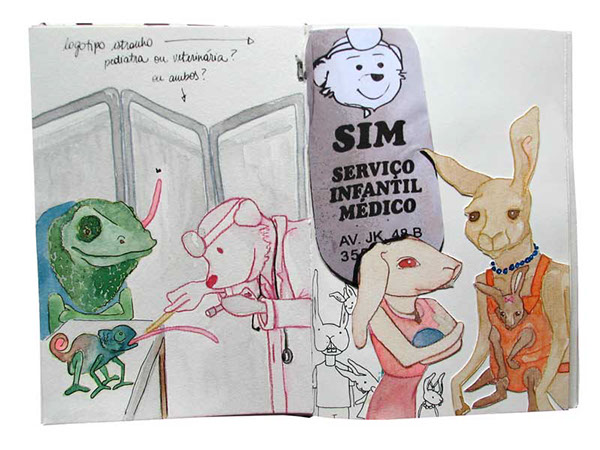dog: (150, 210, 300, 350)
